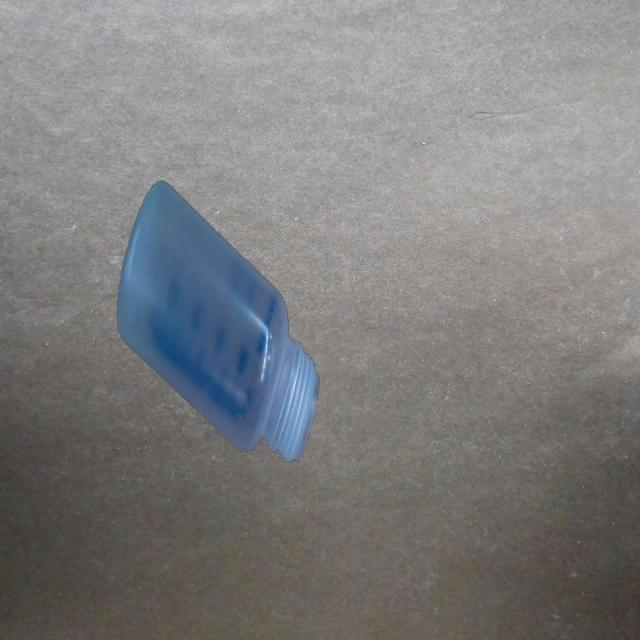bottle: (115, 176, 321, 470)
